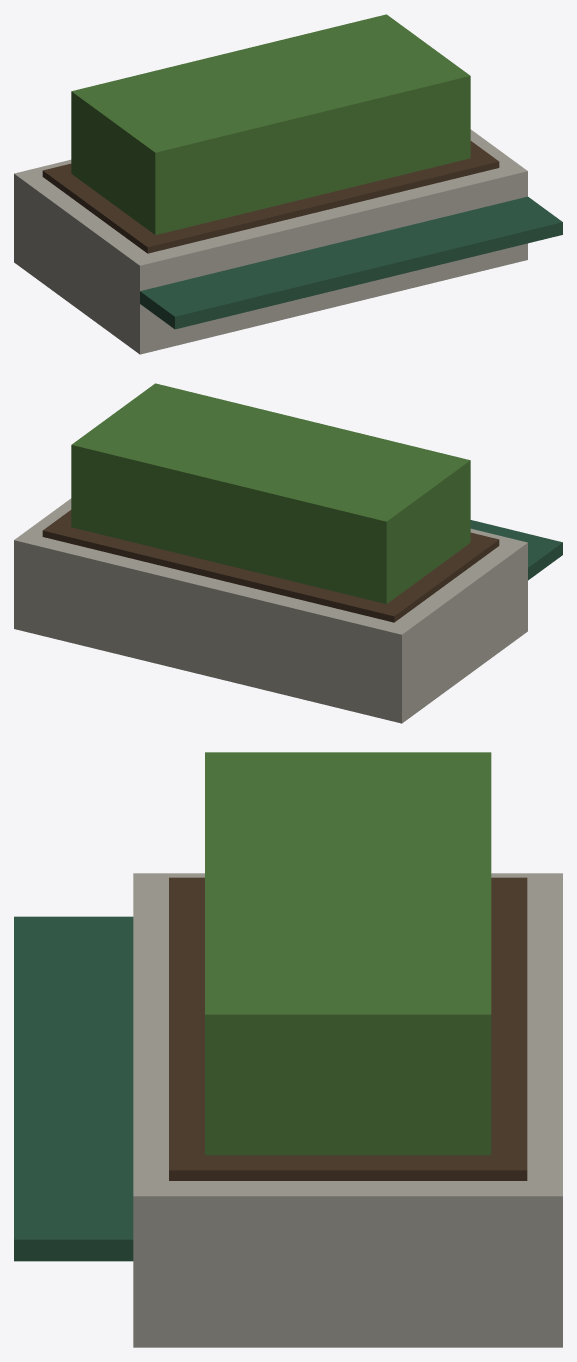
File: open-cover.glb
3 views of the same model, one above another, from view 1: azimuth 30°, elevation 25°; view 2: azimuth 150°, elevation 25°; view 3: azimuth 270°, elevation 25° (orthographic). The views are drawn at different scales.
Parts seen in each view (by area): view 1: open-cover; view 2: open-cover; view 3: open-cover.
Part boxes in pixels (bbox=[...]): open-cover: bbox=[14, 14, 562, 354]; open-cover: bbox=[14, 383, 562, 723]; open-cover: bbox=[14, 752, 562, 1347].
Bounding box in the file's own units: 3.2 × 1.4 × 2.3.
